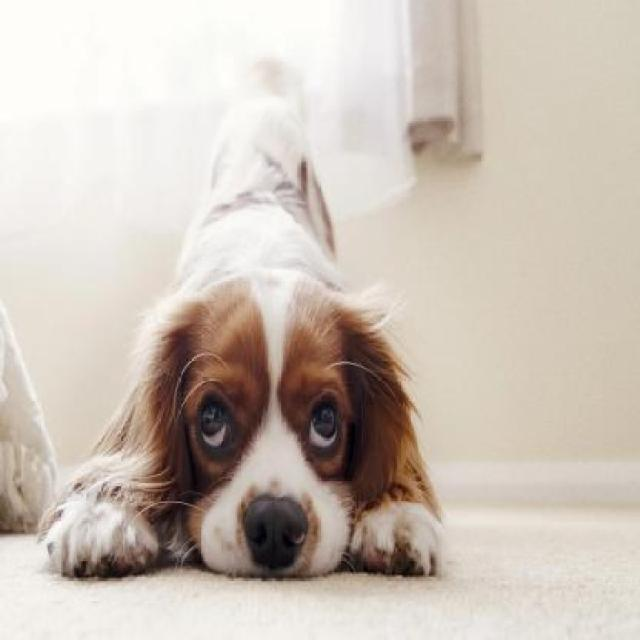animals: (58, 148, 445, 580)
